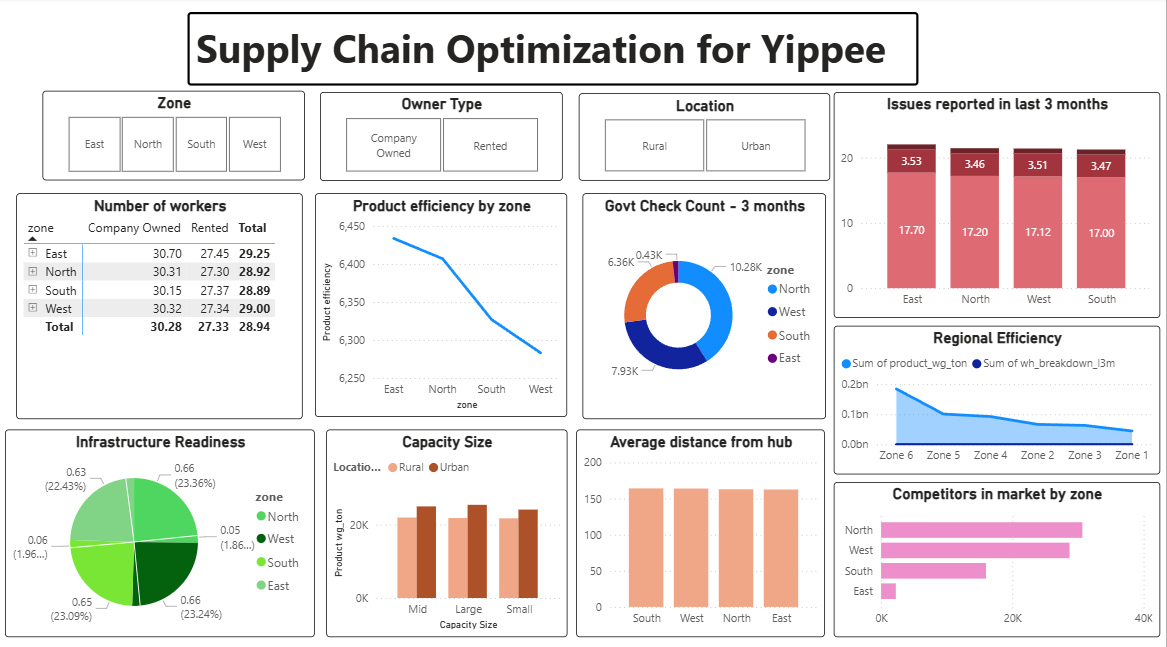

The dashboard page shown, as its layout file describes it:
{"tool":"powerbi","page":{"name":"Page 1","canvas":[1280,720],"ordinal":0},"visuals":[{"type":"pivotTable","title":"Number of workers","fields":{"Values":["Avg(Yippee_data.workers_num)"],"Columns":["Yippee_data.wh_owner_type"],"Rows":["Yippee_data.zone","Yippee_data.WH_regional_zone"]},"box":[17.8,215.4,314.2,248.4],"z":0},{"type":"lineClusteredColumnComboChart","title":"Capacity Size","fields":{"Category":["Yippee_data.WH_capacity_size"],"Series":["Yippee_data.Location_type"],"Y":["Avg(Yippee_data.product_wg_ton)"]},"box":[358.1,474.8,264.8,227.8],"z":1000},{"type":"columnChart","title":"Issues reported in last 3 months","fields":{"Category":["Yippee_data.zone"],"Y":["Avg(Yippee_data.storage_issue_reported_l3m)","Avg(Yippee_data.wh_breakdown_l3m)","Avg(Yippee_data.transport_issue_l1y)"]},"box":[915.3,104.3,358.1,248.4],"z":2000},{"type":"donutChart","title":"Govt Check Count - 3 months","fields":{"Category":["Yippee_data.zone"],"Y":["CountNonNull(Yippee_data.govt_check_l3m)"]},"box":[639.5,215.4,267.6,248.4],"z":3000},{"type":"barChart","title":"Competitors in market by zone","fields":{"Y":["Sum(Yippee_data.Competitor_in_mkt)"],"Category":["Yippee_data.zone"]},"box":[915.3,532.4,358.1,170.2],"z":4000},{"type":"clusteredColumnChart","title":"Average distance from hub ","fields":{"Y":["Avg(Yippee_data.dist_from_hub)"],"Category":["Yippee_data.zone"]},"box":[632.6,474.8,273.1,227.8],"z":5000},{"type":"areaChart","title":"Regional Efficiency","fields":{"Category":["Yippee_data.WH_regional_zone"],"Y":["Sum(Yippee_data.product_wg_ton)","Sum(Yippee_data.wh_breakdown_l3m)"]},"box":[915.3,360.9,358.1,163.3],"z":6000},{"type":"pieChart","title":"Infrastructure Readiness","fields":{"Category":["Yippee_data.zone"],"Y":["Avg(Yippee_data.electric_supply)","Avg(Yippee_data.flood_proof)"]},"box":[5.5,474.8,340.3,227.8],"z":7000},{"type":"textbox","box":[205.8,16.5,802.7,81],"z":8000},{"type":"slicer","title":"Zone","fields":{"Values":["Yippee_data.zone"]},"box":[46.7,102.9,288.2,98.8],"z":8001},{"type":"actionButton","box":[0,0,100,40],"z":8002},{"type":"slicer","title":"Owner Type","fields":{"Values":["Yippee_data.wh_owner_type"]},"box":[351.3,104.3,266.2,97.4],"z":8003},{"type":"slicer","title":"Location","fields":{"Values":["Yippee_data.Location_type"]},"box":[635.3,105.7,275.8,96.1],"z":8004},{"type":"lineChart","fields":{"Category":["Yippee_data.zone"],"Y":["Yippee_data.Product efficiency"]},"box":[345.8,215.4,277.2,245.6],"z":8006}]}

Visuals, with their boxes in screenshot pixels (x1, y1, x2, y2), scaled from the page's 1280x720 canvas onto the 1167x647 screenshot:
"Number of workers" pivotTable: (16, 194, 303, 417)
"Capacity Size" lineClusteredColumnComboChart: (326, 427, 568, 631)
"Issues reported in last 3 months" columnChart: (834, 94, 1161, 317)
"Govt Check Count - 3 months" donutChart: (583, 194, 827, 417)
"Competitors in market by zone" barChart: (834, 478, 1161, 631)
"Average distance from hub " clusteredColumnChart: (577, 427, 826, 631)
"Regional Efficiency" areaChart: (834, 324, 1161, 471)
"Infrastructure Readiness" pieChart: (5, 427, 315, 631)
textbox: (188, 15, 919, 88)
"Zone" slicer: (43, 92, 305, 181)
actionButton: (0, 0, 91, 36)
"Owner Type" slicer: (320, 94, 563, 181)
"Location" slicer: (579, 95, 831, 181)
lineChart - Yippee_data.zone x Yippee_data.Product efficiency: (315, 194, 568, 414)
